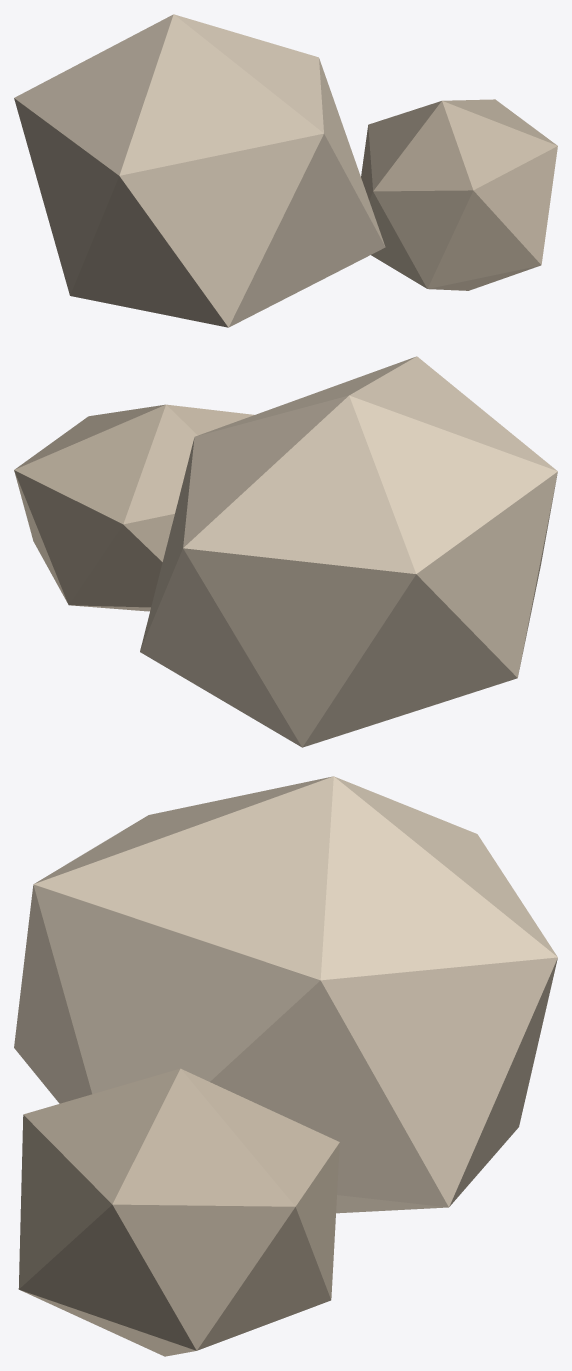
File: rock_small_a.glb
The picture shows the model from 3 angles, top to bottom: view 1: azimuth 30°, elevation 25°; view 2: azimuth 150°, elevation 25°; view 3: azimuth 270°, elevation 25°; orthographic projection. The views are drawn at different scales.
Parts seen in each view (by area): view 1: rock_small_a; view 2: rock_small_a; view 3: rock_small_a.
Part boxes in pixels (<box>): rock_small_a: <box>14,14,557,327</box>; rock_small_a: <box>14,356,557,747</box>; rock_small_a: <box>14,776,557,1356</box>.
Size of the model in its own units: 0.7902 by 0.4917 by 0.5762.
